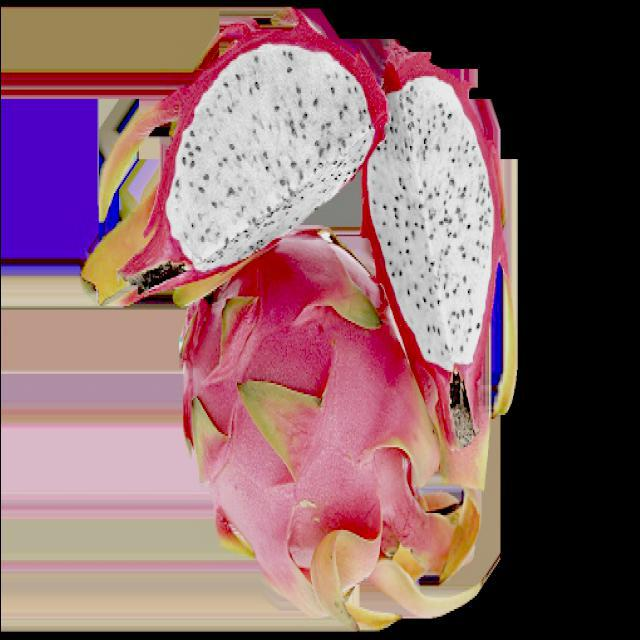trang: (178, 248, 474, 616), (120, 22, 383, 300), (356, 64, 496, 437)
